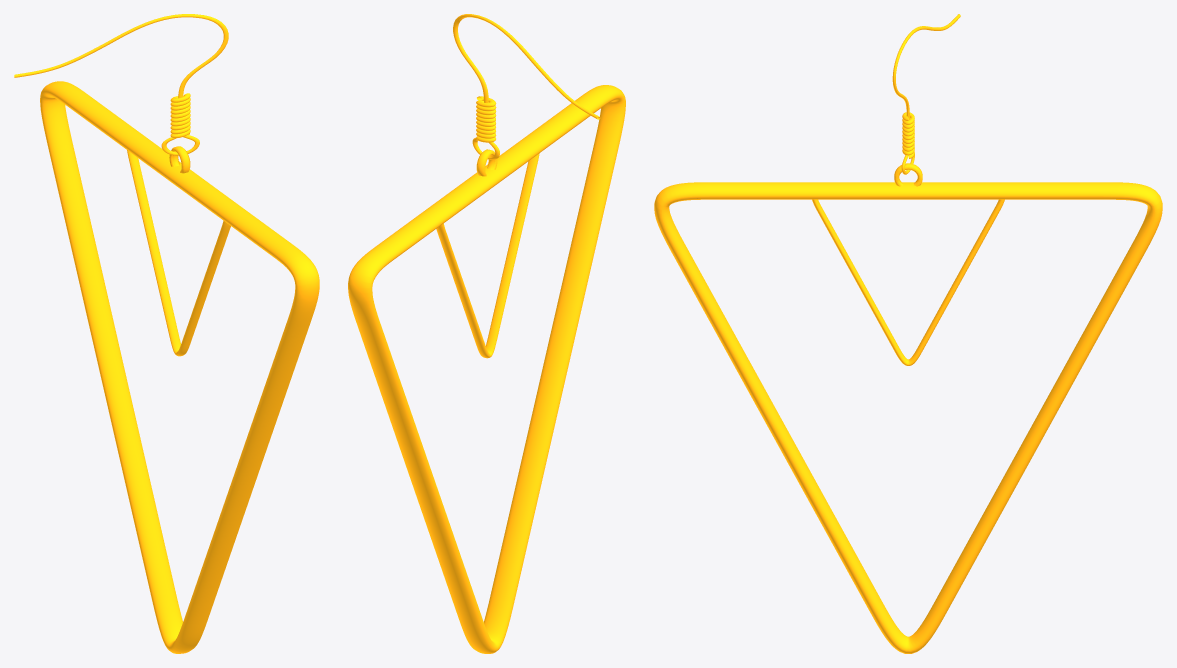
The model's file is triangle_earrings.fbx.
The picture shows the model from 3 angles, left to right: view 1: azimuth 30°, elevation 25°; view 2: azimuth 150°, elevation 25°; view 3: azimuth 270°, elevation 25°; orthographic projection. The views are drawn at different scales.
Parts seen in each view (by area): view 1: Object_3; view 2: Object_3; view 3: Object_3.
Part boxes in pixels (x1,y1,x2,y2): Object_3: (14, 14, 319, 653); Object_3: (348, 14, 625, 653); Object_3: (654, 14, 1162, 653).
Bounding box in the file's own units: 9.98 × 33.5 × 25.04.
